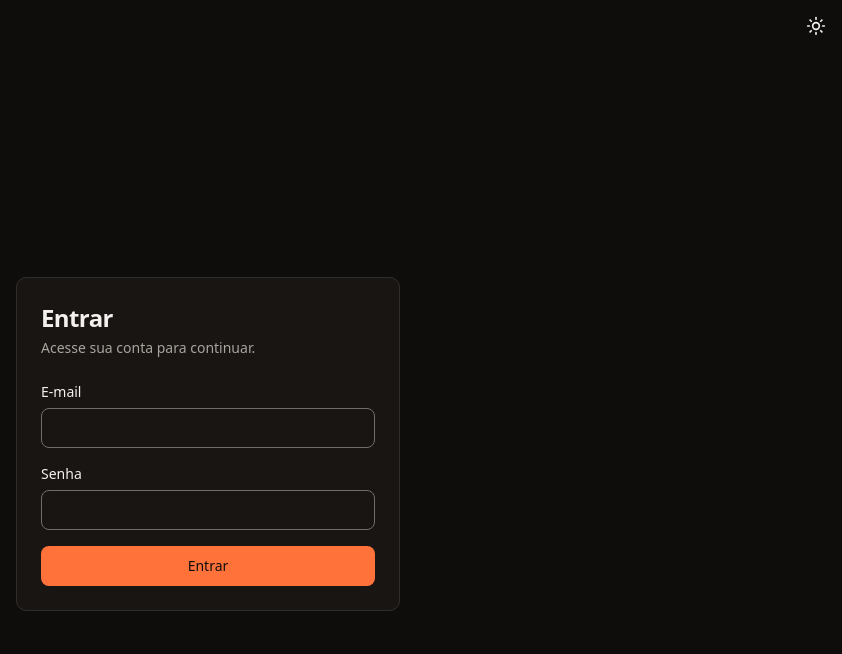
Test: login e proteção de rotas › erros de validação são anunciados e o foco vai ao primeiro campo inválido
The image size is (842, 654).
Click the button "Entrar": x=208, y=566 top-left (41, 546), bottom-right (375, 586)
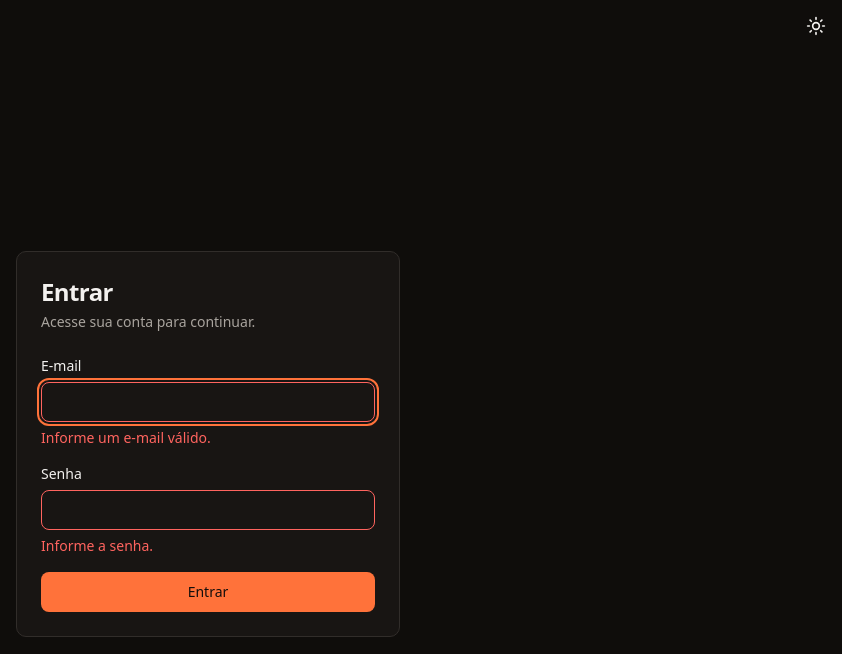
expect the number of messages is 2: met, box top-left (41, 428), bottom-right (211, 447); top-left (41, 536), bottom-right (153, 555)
